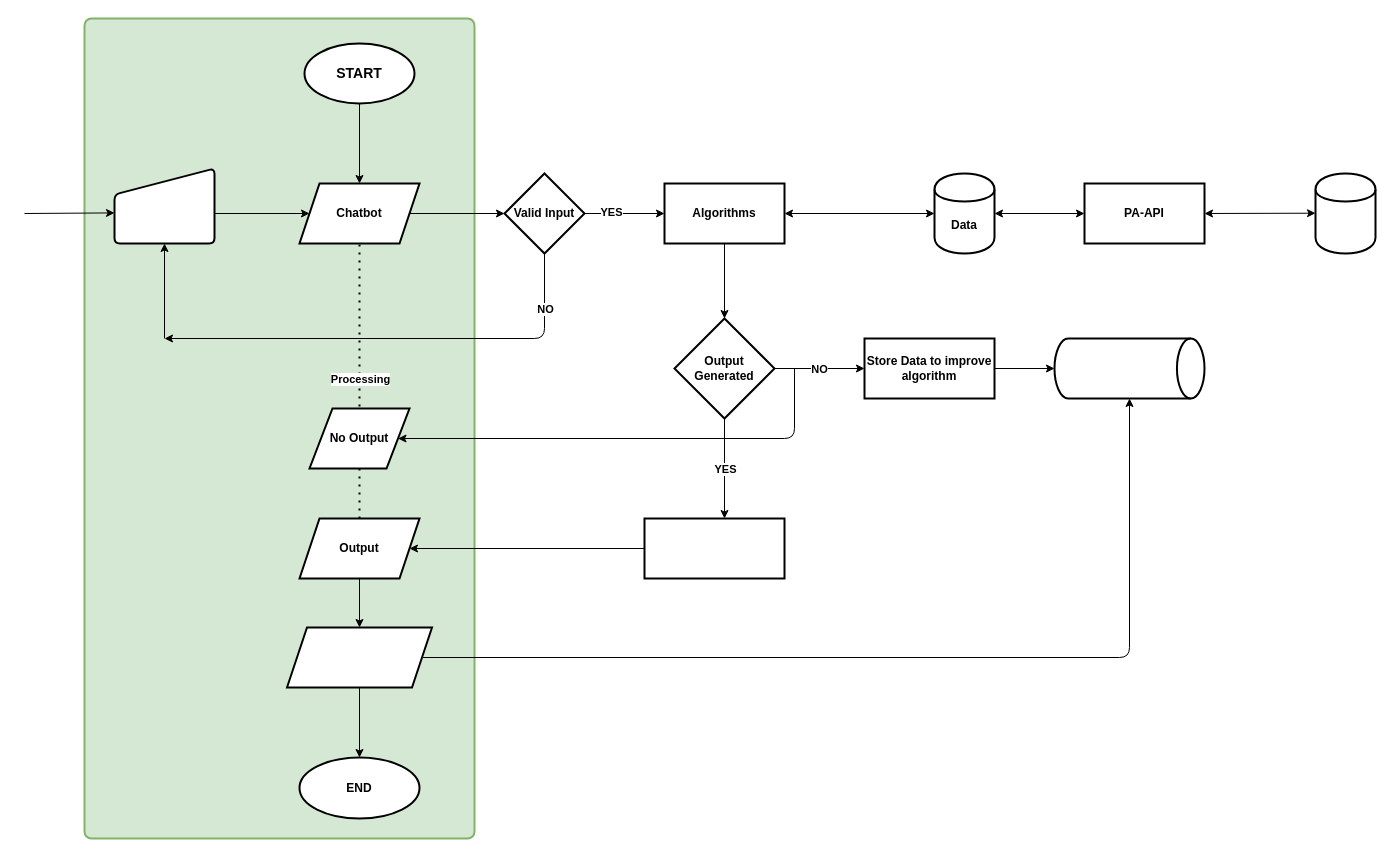
Some shapes in this 1394 by 856 pixel diagram are drawn without their labels. Each missing label, with the centre of its shape:
"Check Availability and Store Price" belongs at [714,548].
"Input User Ratings / Reviews" belongs at [359,657].
"Laptop Links" belongs at [1345,213].
"Laptop Requirement" belongs at [164,205].
"New Data Store" belongs at [1129,368].
